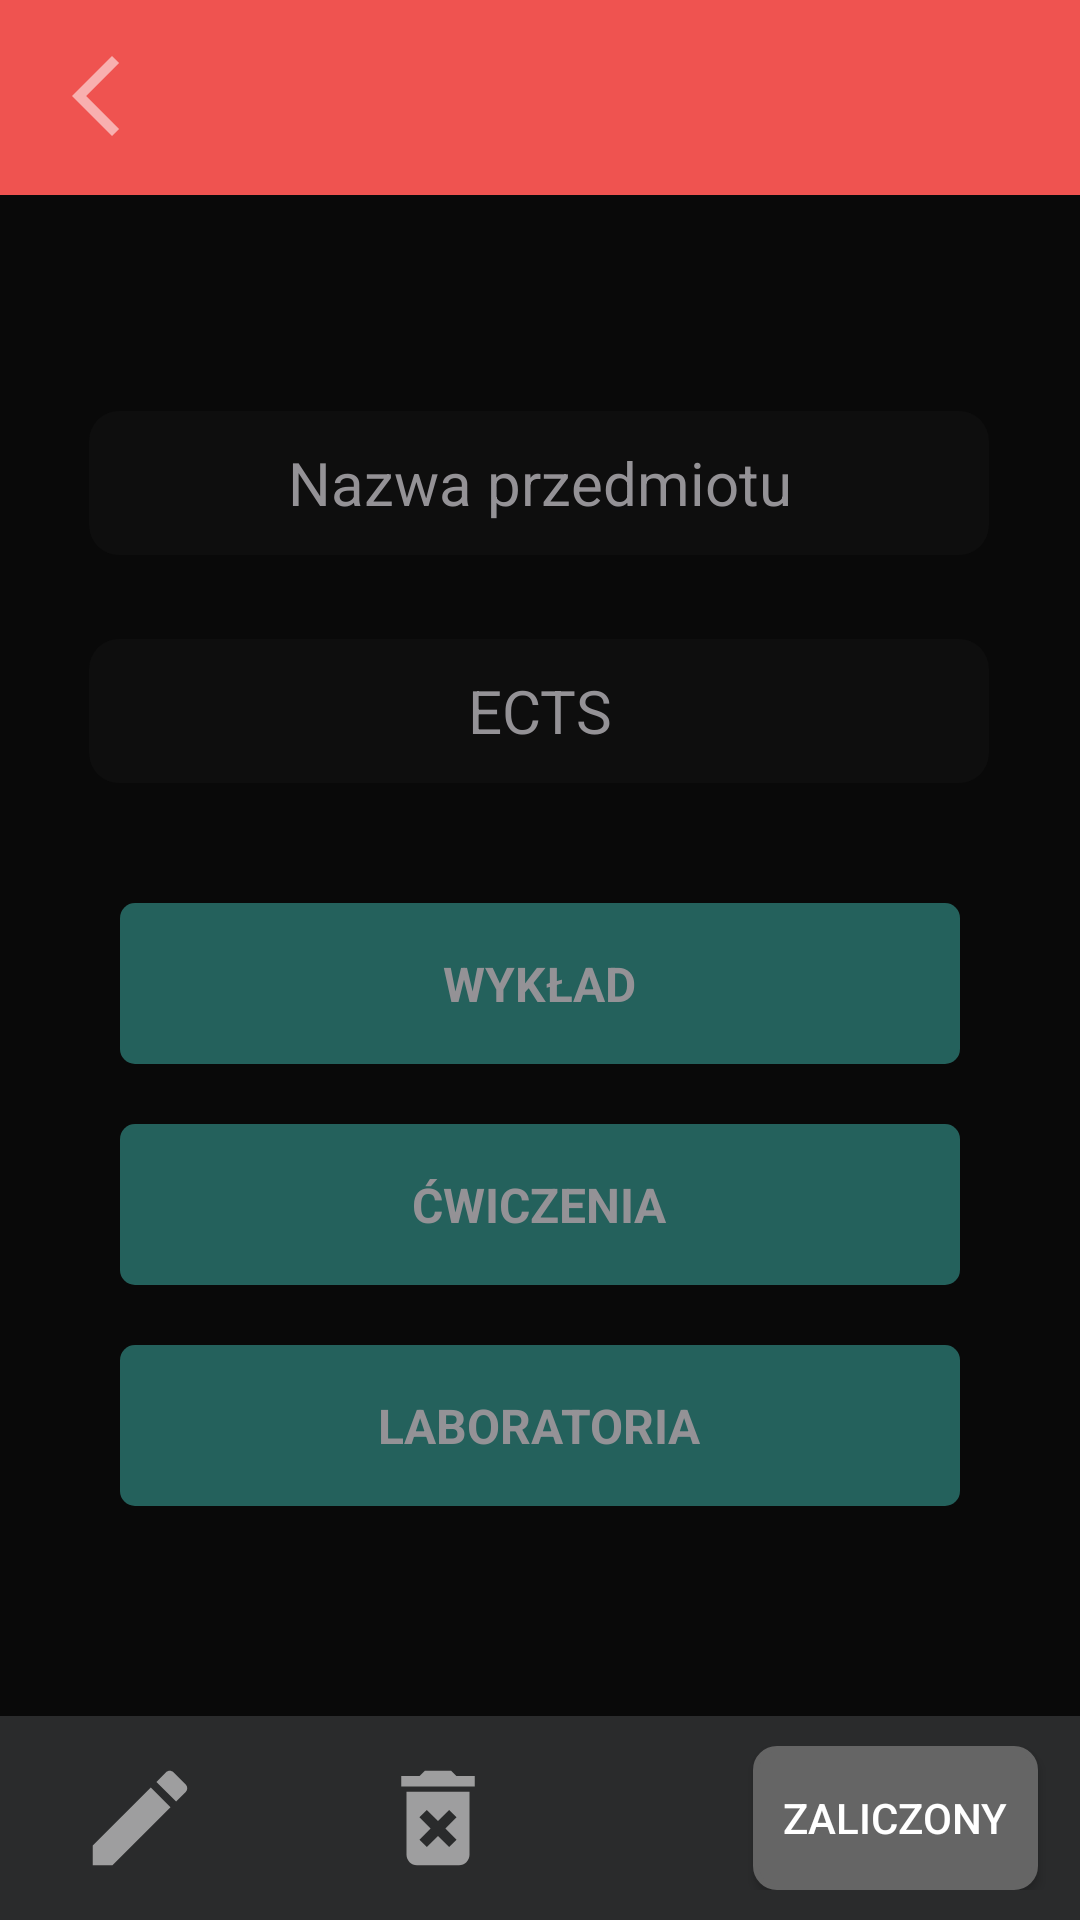

Where icons sit on this 1080x1920 app screen, as (x1, y1, x2, y2):
arrow back: (72, 56, 119, 136)
delete: (401, 1770, 475, 1866)
edit: (92, 1770, 187, 1866)
